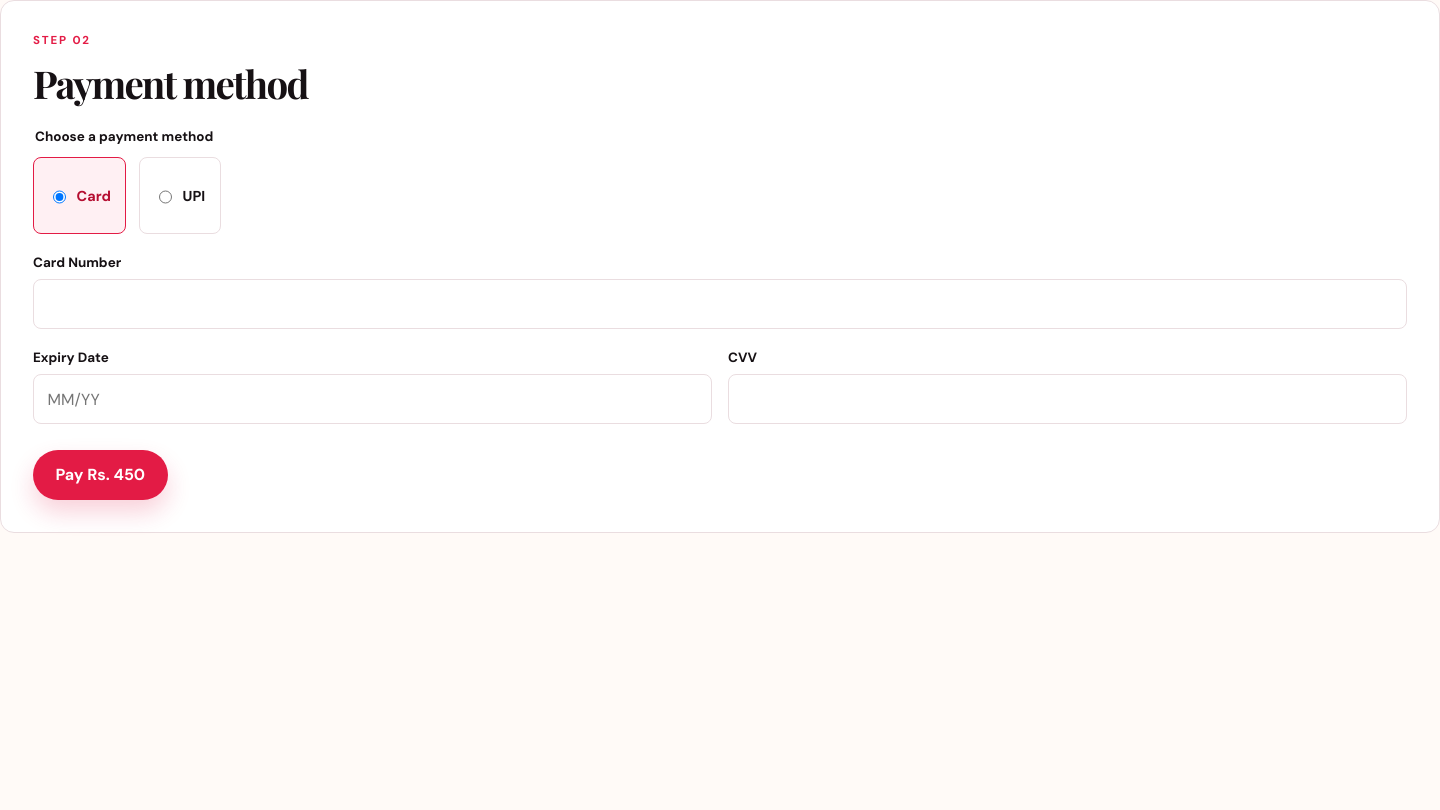
Test case: booking components › marks an invalid card Expiry Date with its specific validation error
Type "4242424242424242" into the field labelled "Card Number".
click(720, 304); type("4242424242424242")  # box [33,279,1407,329]
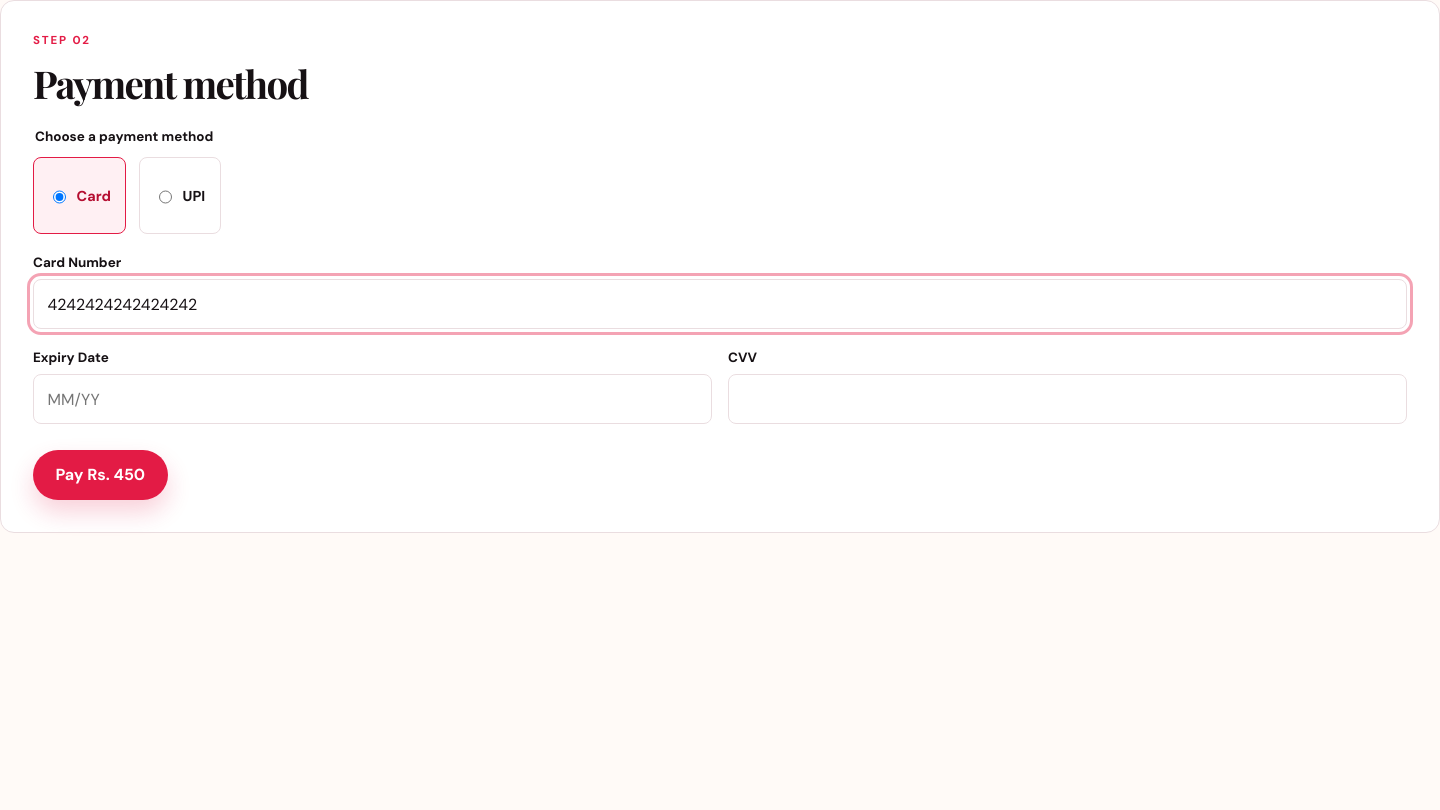
Type "12/30" into the field labelled "Expiry Date".
click(372, 399); type("12/30")  # box [33,374,712,424]
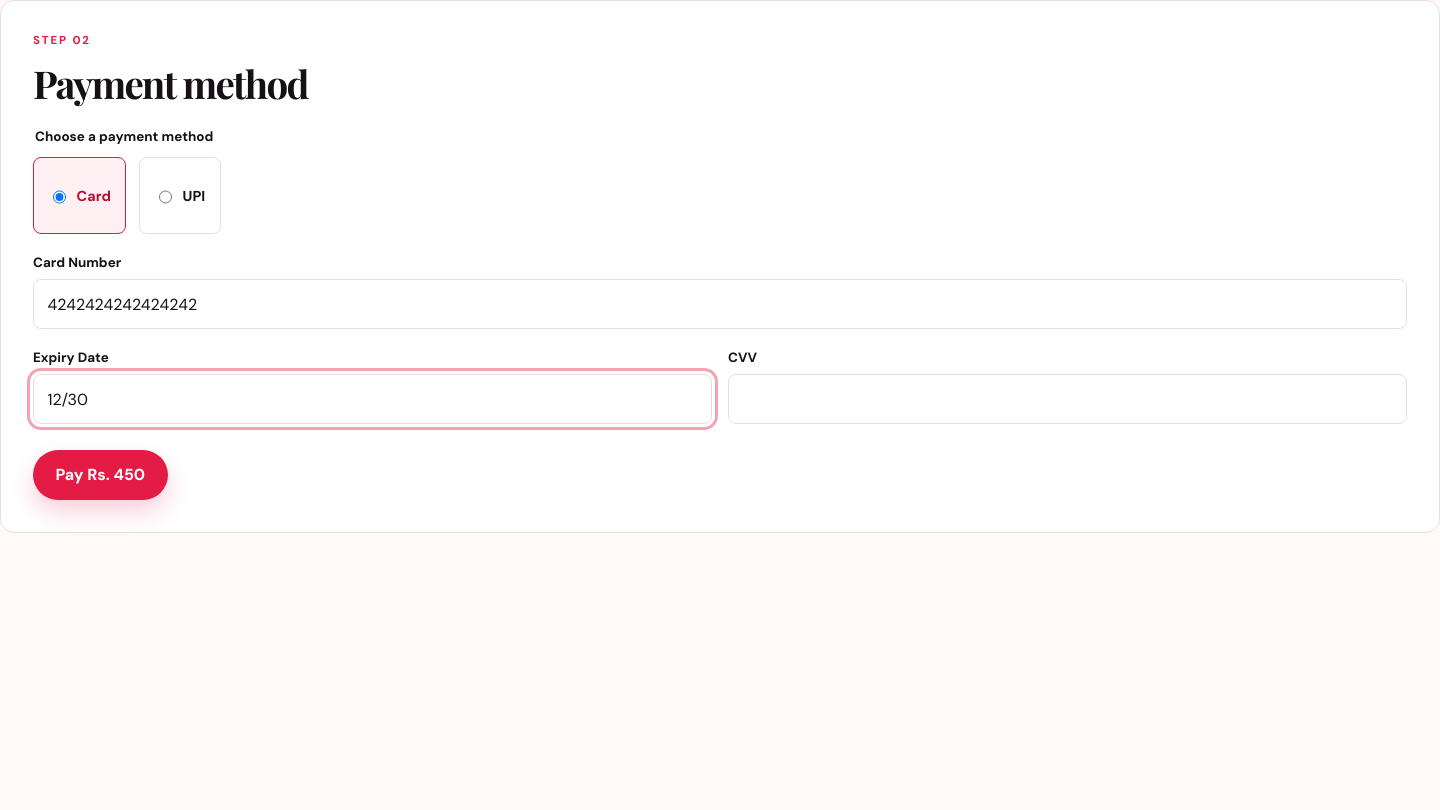
Type "123" into the field labelled "CVV".
click(1068, 399); type("123")  # box [728,374,1407,424]
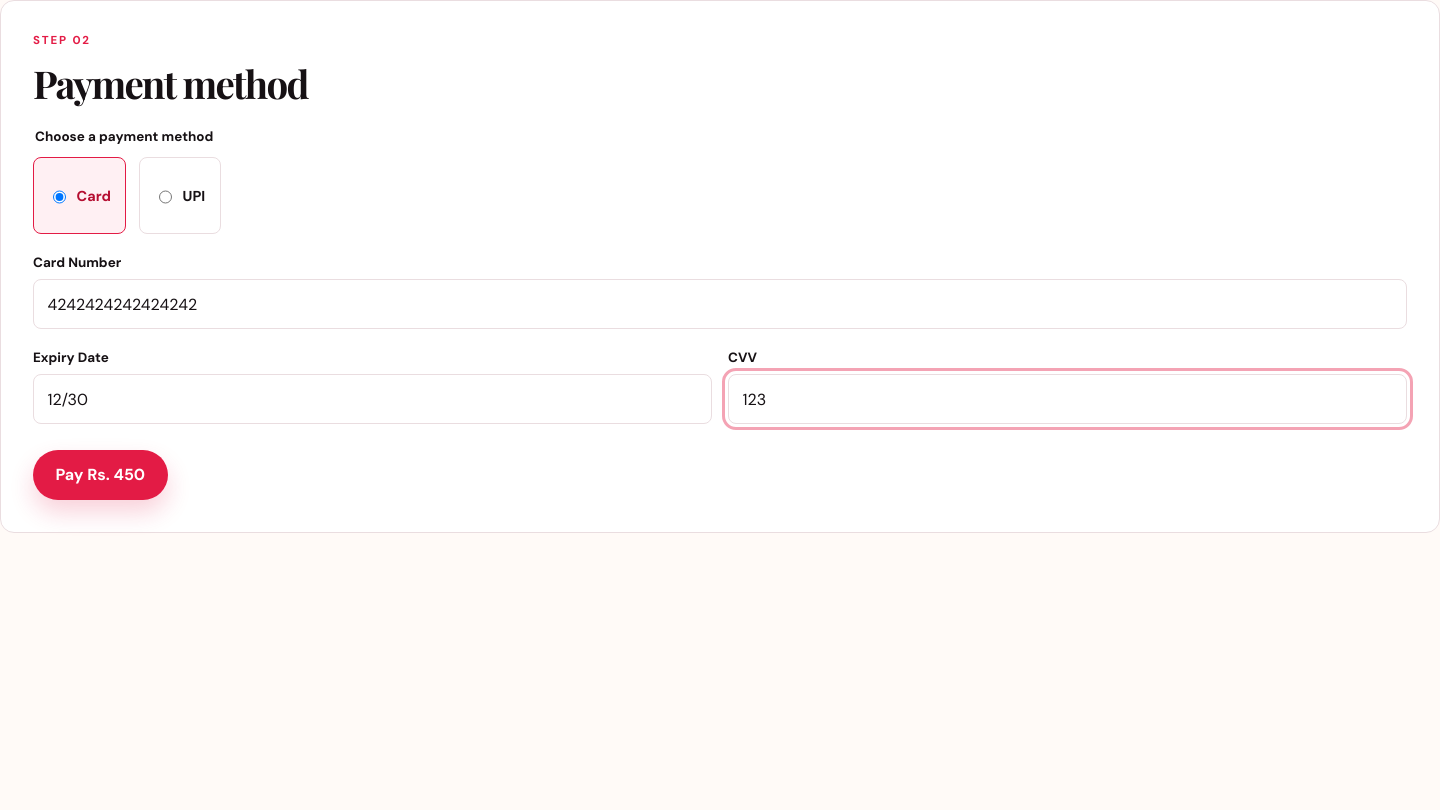
Replace the text in the field labelled "Expiry Date" with "2030" at (372, 399), box [33,374,712,424]
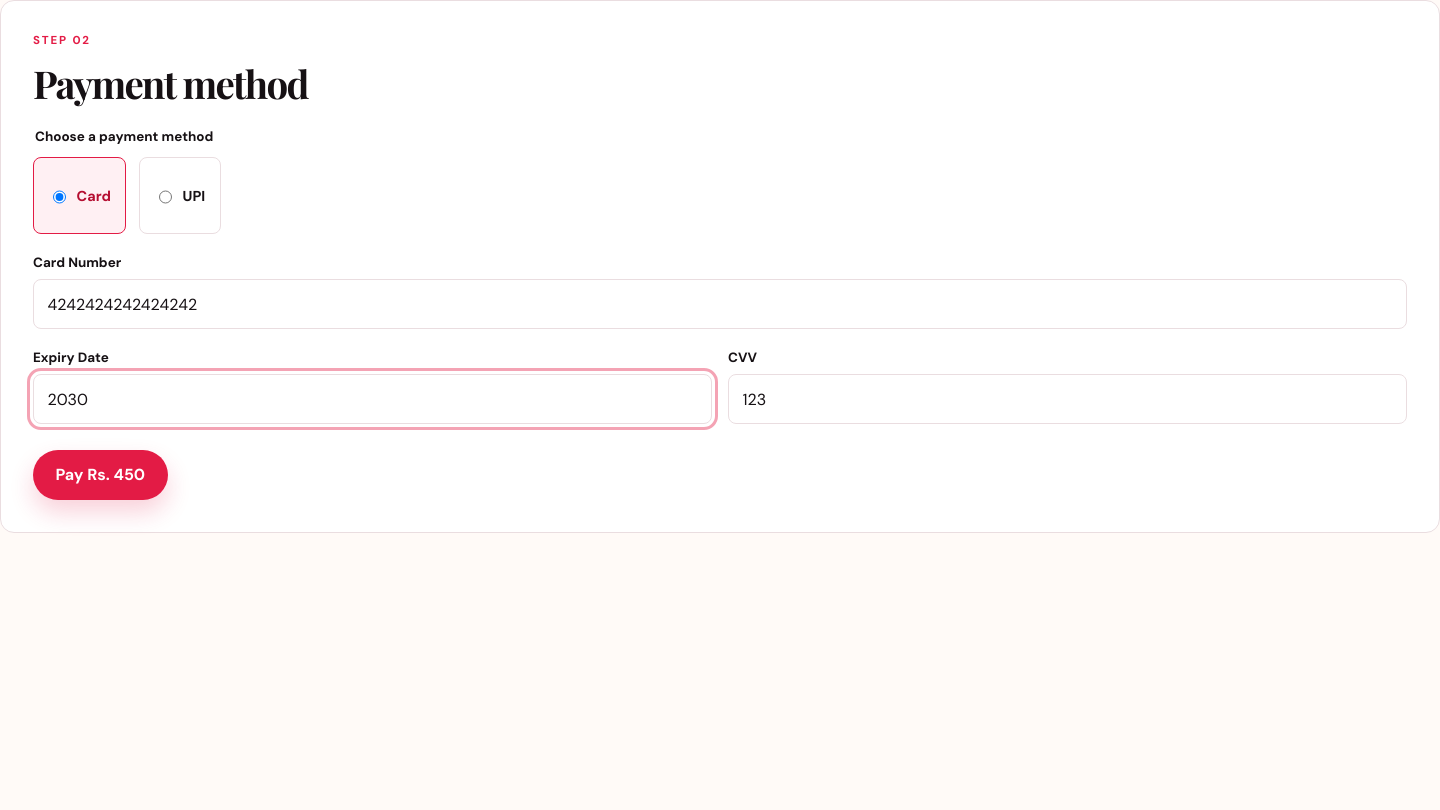
Click the button "Pay Rs. 450".
click(100, 475)  # box [33,450,168,500]
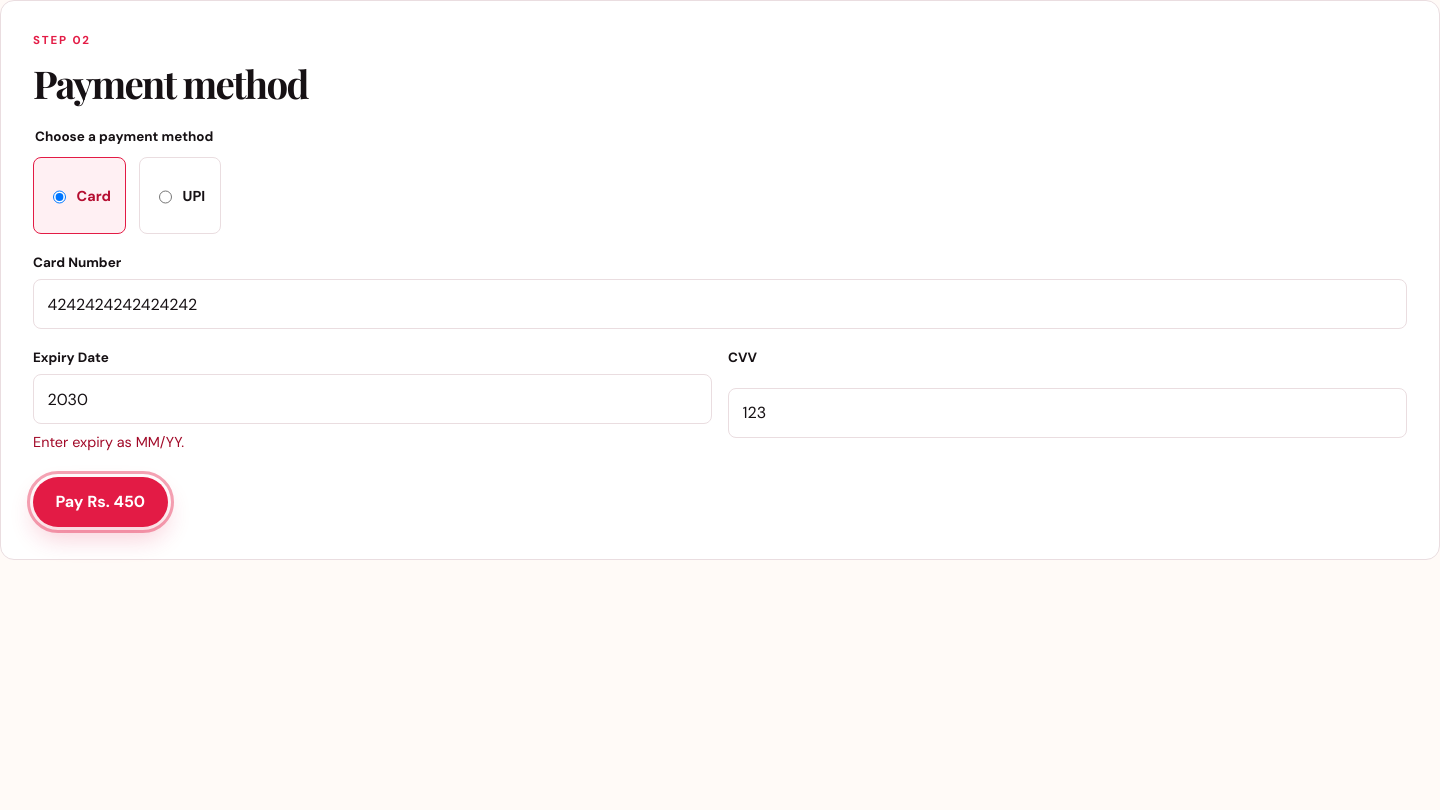
expect the message reads "Enter expiry as MM/YY.": met, box [33,433,184,451]
